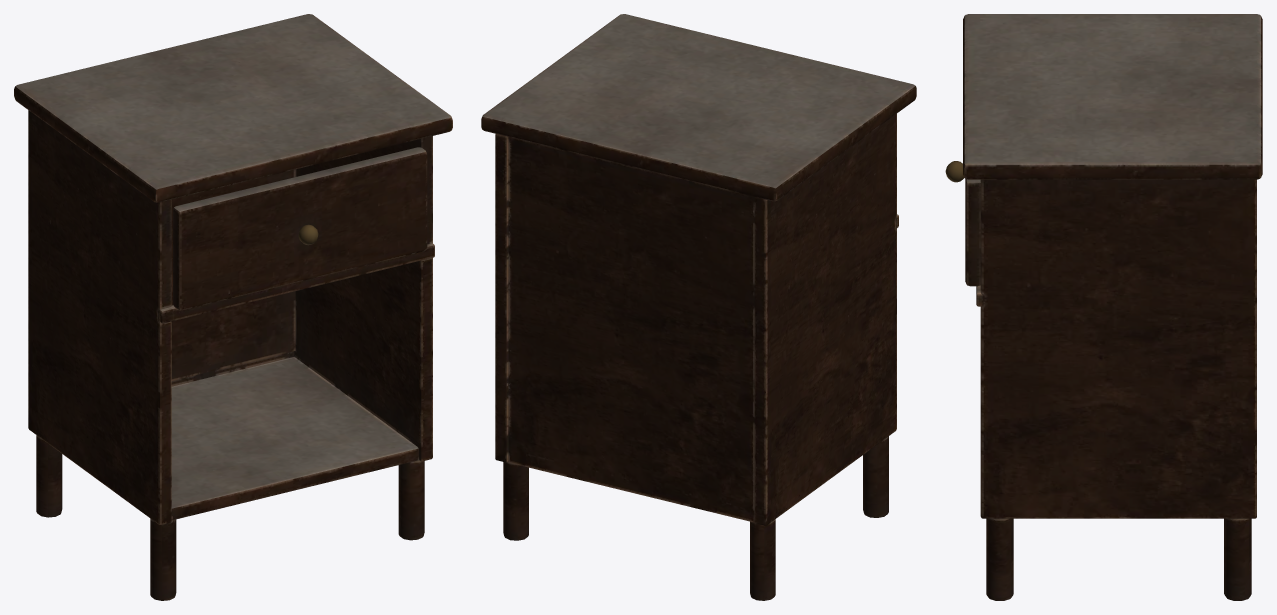
The model's file is nightstand.glb.
3 renders of one model, left to right at view 1: azimuth 30°, elevation 25°; view 2: azimuth 150°, elevation 25°; view 3: azimuth 270°, elevation 25°, orthographic. The views are drawn at different scales.
Visible parts, largest first — view 1: nightstand; view 2: nightstand; view 3: nightstand.
Part boxes in pixels (box(x1,y1,x2,y2)): nightstand: box(14, 14, 452, 600); nightstand: box(481, 14, 916, 600); nightstand: box(945, 14, 1262, 600).
Size of the model in its own units: 0.47 by 0.64 by 0.413.
1 material, 1 textured.
